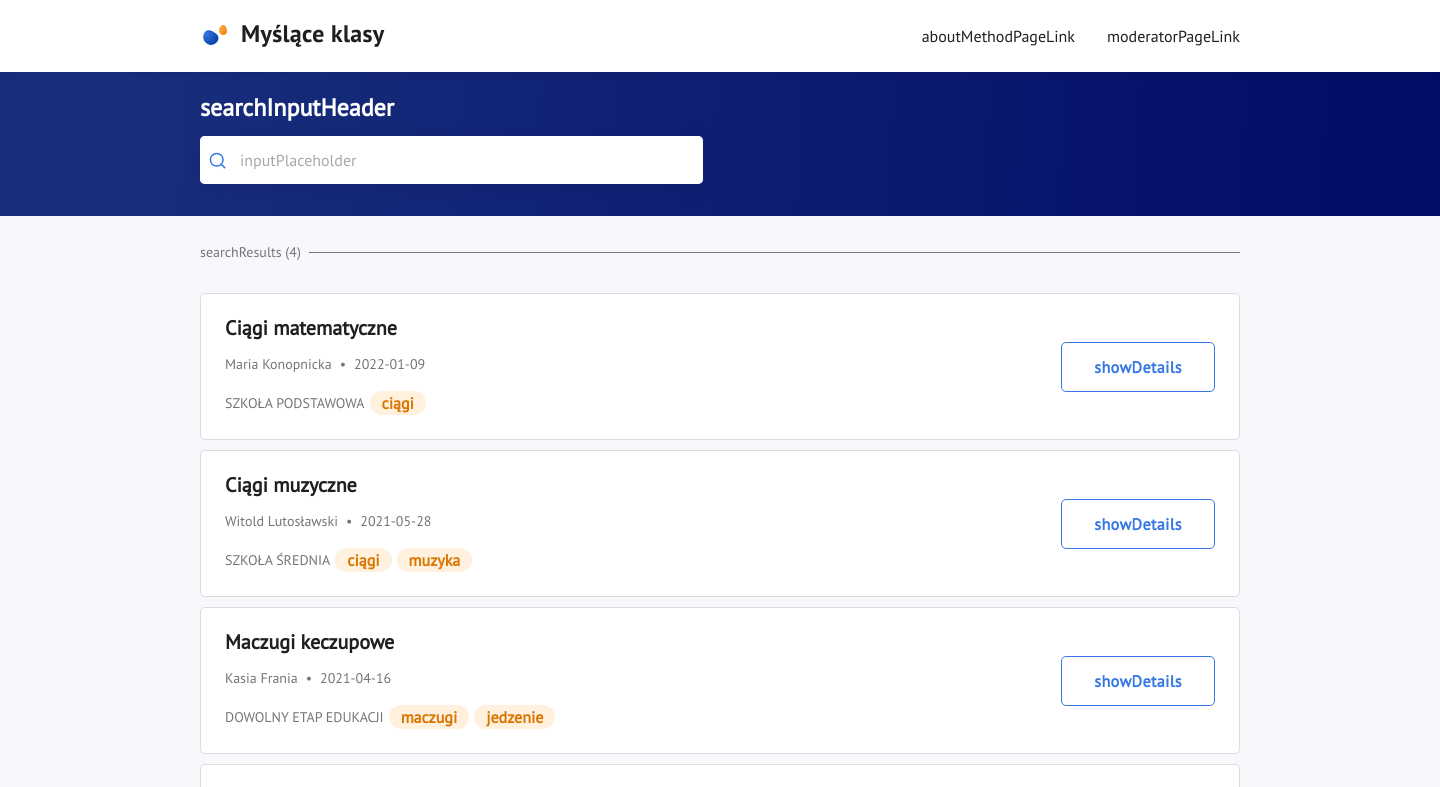
it: <App /> › navigates from detailed page to problems page after clicking on back to problems list button
Click the link "Ciągi matematyczne". click: click(231, 328)
box: [225,315,397,341]
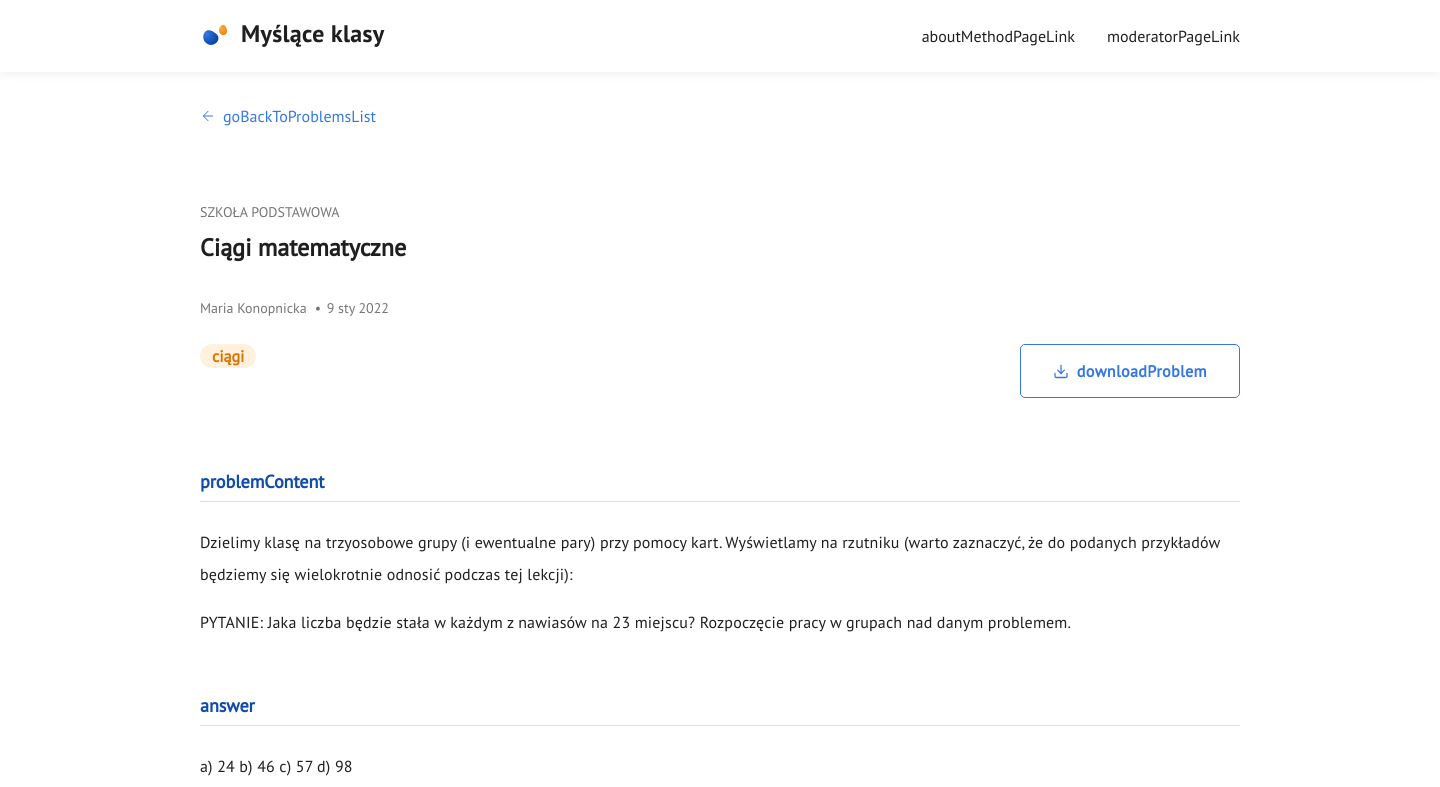
Click the link "goBackToProblemsList". click: click(288, 116)
box: [200,106,376,126]
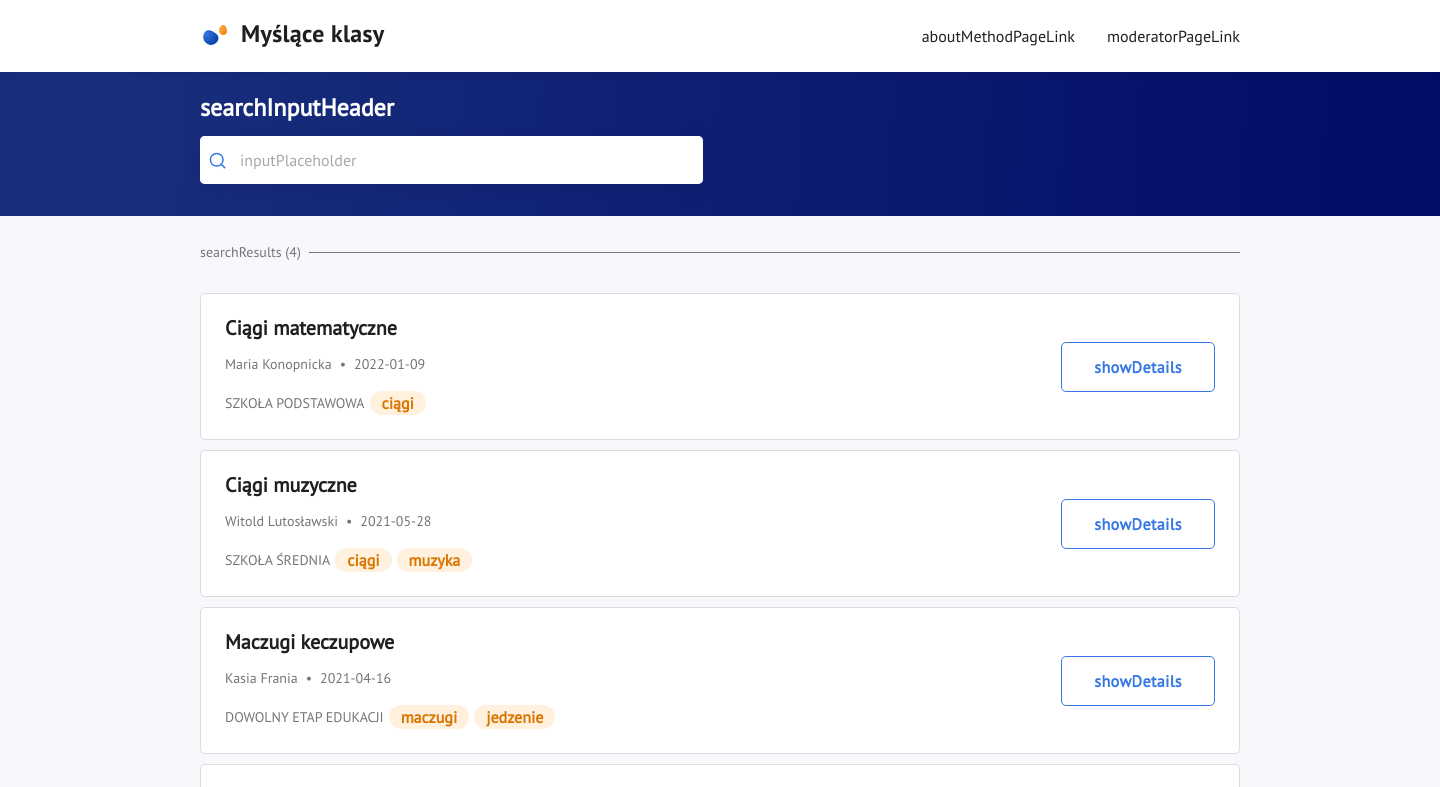
Result: the heading "searchInputHeader" is shown at [200,92,394,123]
